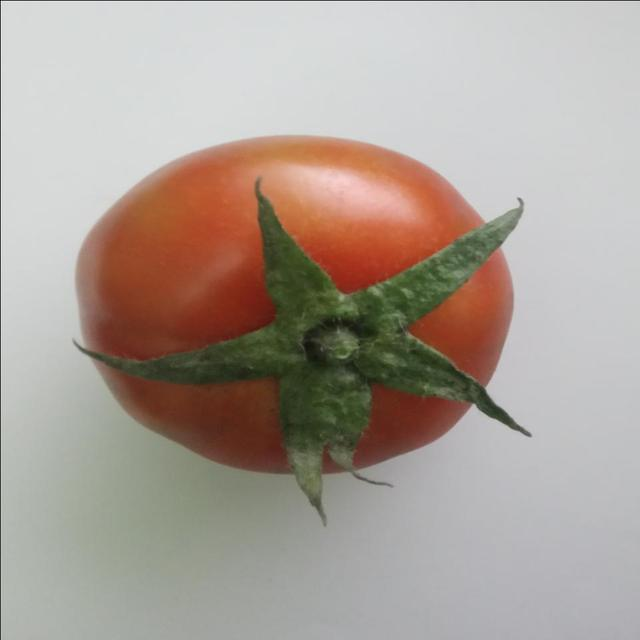Healthy Fruit: (48, 83, 346, 324)
